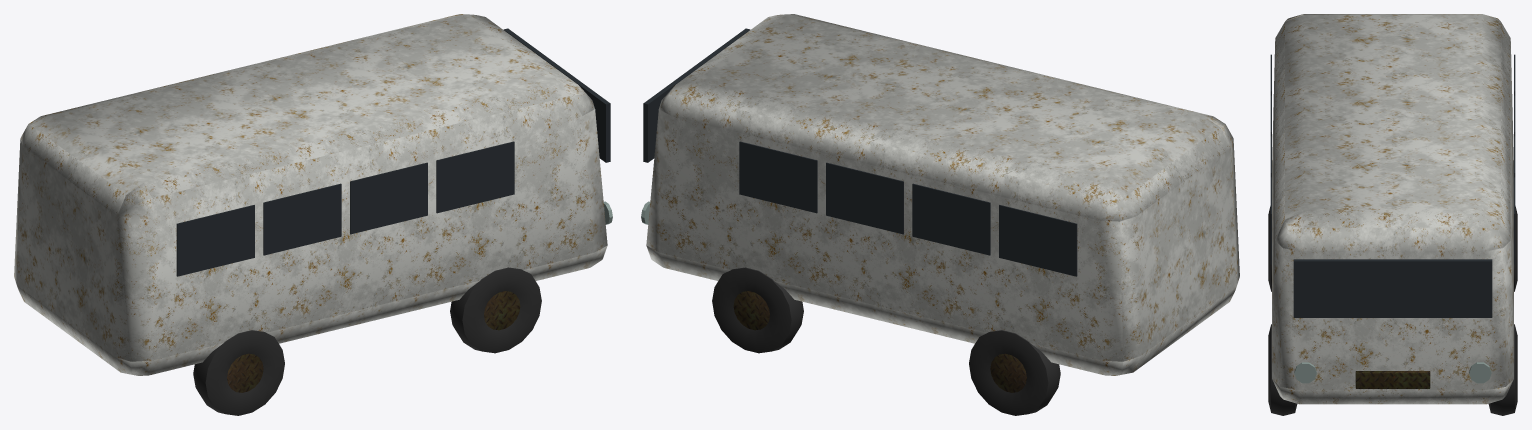
Rendered from veh_van.gltf.
The picture shows the model from 3 angles, left to right: view 1: azimuth 30°, elevation 25°; view 2: azimuth 150°, elevation 25°; view 3: azimuth 270°, elevation 25°; orthographic projection. The views are drawn at different scales.
Visible parts, largest first — view 1: box, torus, torus.002, box.002, box.004, box.001, box.003, box.009, cyl.004, cyl.002; view 2: box, torus.001, torus.003, box.006, box.008, box.005, box.007, box.009, cyl.005, cyl.003; view 3: box, box.009, box.010, torus, torus.001, cyl, cyl.001, torus.002, torus.003.
Boxes of the visible parts, x1,y1,x2,y2 form: box: (14, 14, 607, 375); torus: (450, 267, 541, 353); torus.002: (193, 330, 284, 415); box.002: (263, 183, 341, 255); box.004: (436, 141, 514, 213); box.001: (176, 205, 254, 276); box.003: (350, 162, 427, 234); box.009: (503, 28, 610, 162); cyl.004: (227, 353, 263, 392); cyl.002: (484, 291, 520, 330); box: (646, 14, 1239, 375); torus.001: (712, 267, 803, 353); torus.003: (969, 330, 1060, 415); box.006: (912, 183, 990, 255); box.008: (739, 141, 817, 213); box.005: (999, 205, 1077, 276); box.007: (826, 162, 903, 234); box.009: (643, 28, 750, 162); cyl.005: (990, 353, 1026, 392); cyl.003: (733, 291, 769, 330); box: (1272, 14, 1513, 404); box.009: (1293, 259, 1492, 317); box.010: (1355, 371, 1430, 388); torus: (1268, 324, 1297, 415); torus.001: (1488, 324, 1517, 415); cyl: (1294, 362, 1316, 383); cyl.001: (1469, 362, 1491, 383); torus.002: (1268, 206, 1271, 291); torus.003: (1514, 206, 1517, 291).
Size of the model in its own units: 4.45 by 2.07 by 2.
Materials: 5 (2 with a texture image).
